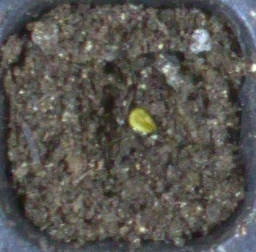chilli seed: (129, 107, 157, 132)
